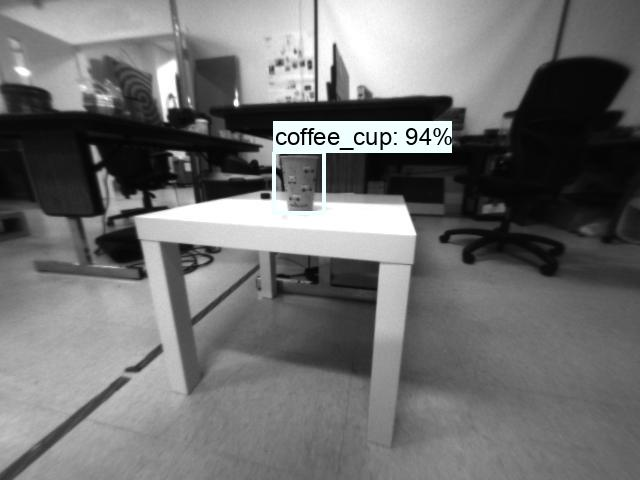coffee_cup: (276, 152, 322, 214)
